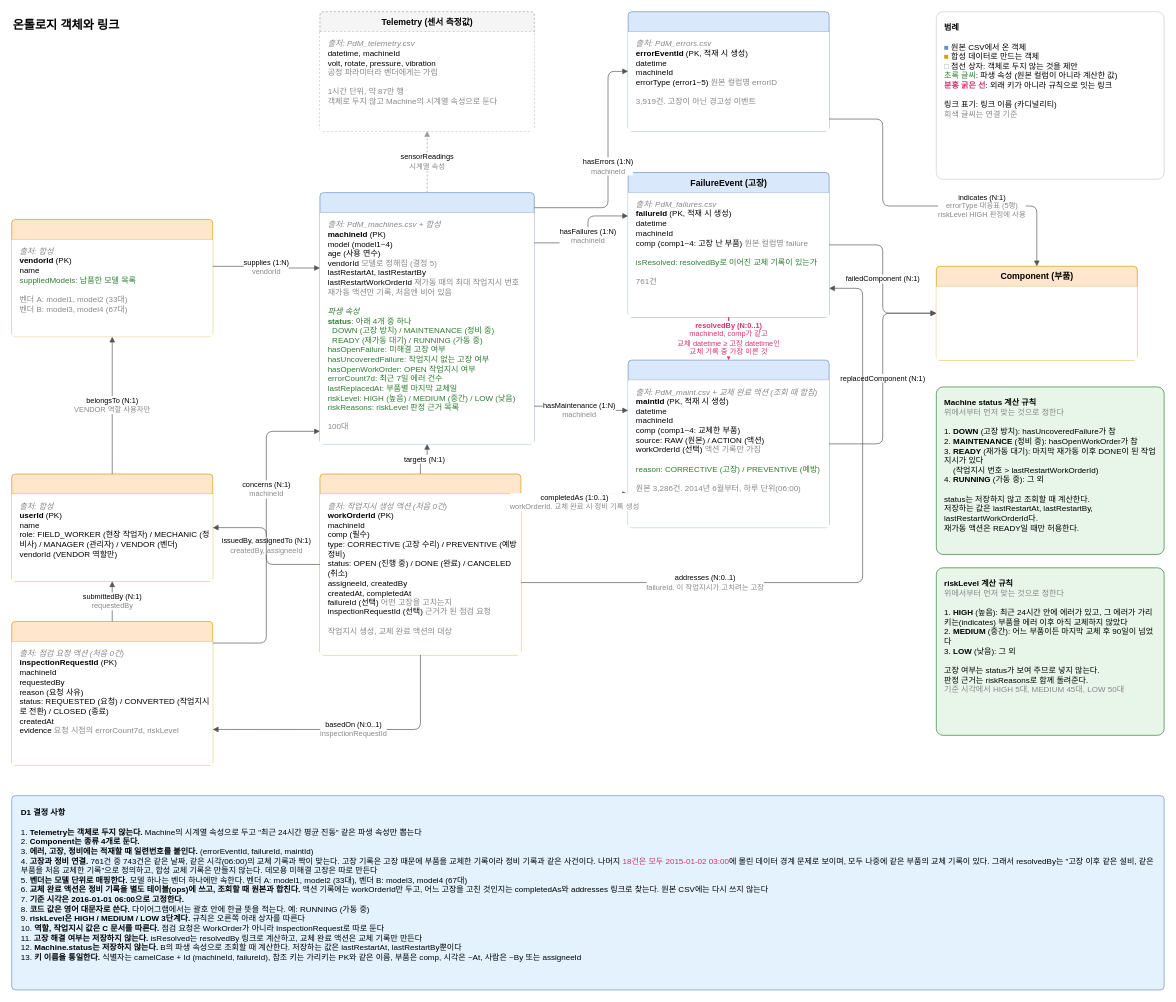
Image size: 1176x1002. Some labels were removed from this diagram. Each missing label, with the box of its shape:
ErrorEvent (에러): (627, 11, 829, 131)
InspectionRequest (점검 요청): (11, 621, 213, 765)
Machine (설비): (319, 192, 534, 444)
Maintenance (정비, 부품 교체): (627, 359, 829, 528)
User (사용자): (11, 473, 213, 581)
Vendor (설비 제조사): (11, 219, 213, 337)
WorkOrder (작업지시): (319, 473, 521, 655)
출처: 합성 (참조용) comp (PK, comp1~4) name 원본에 이름이 없어 comp 값과 같음 4행짜리 참조 객체: (936, 286, 1137, 360)
